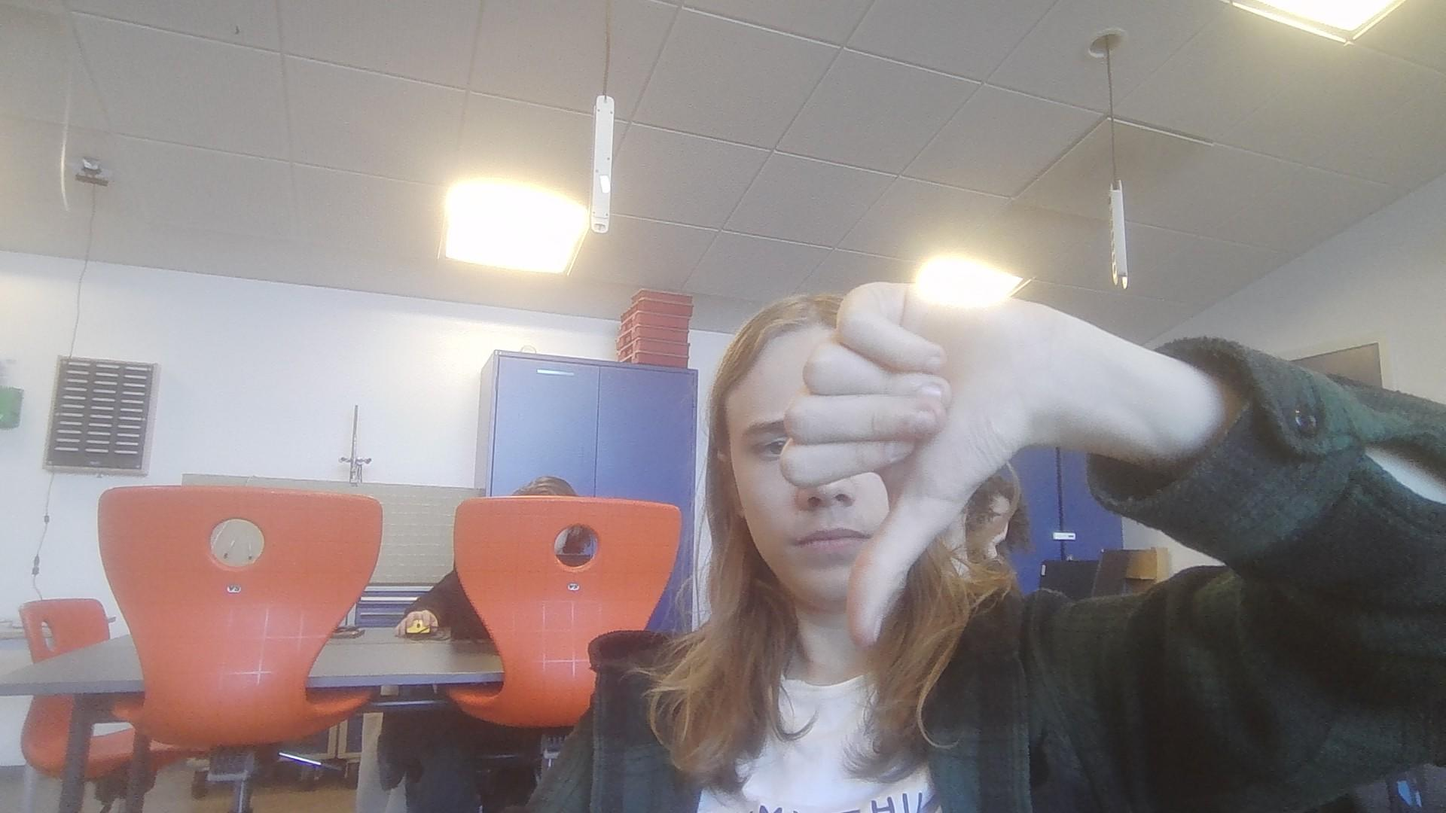thumbs down: (774, 279, 1051, 650)
